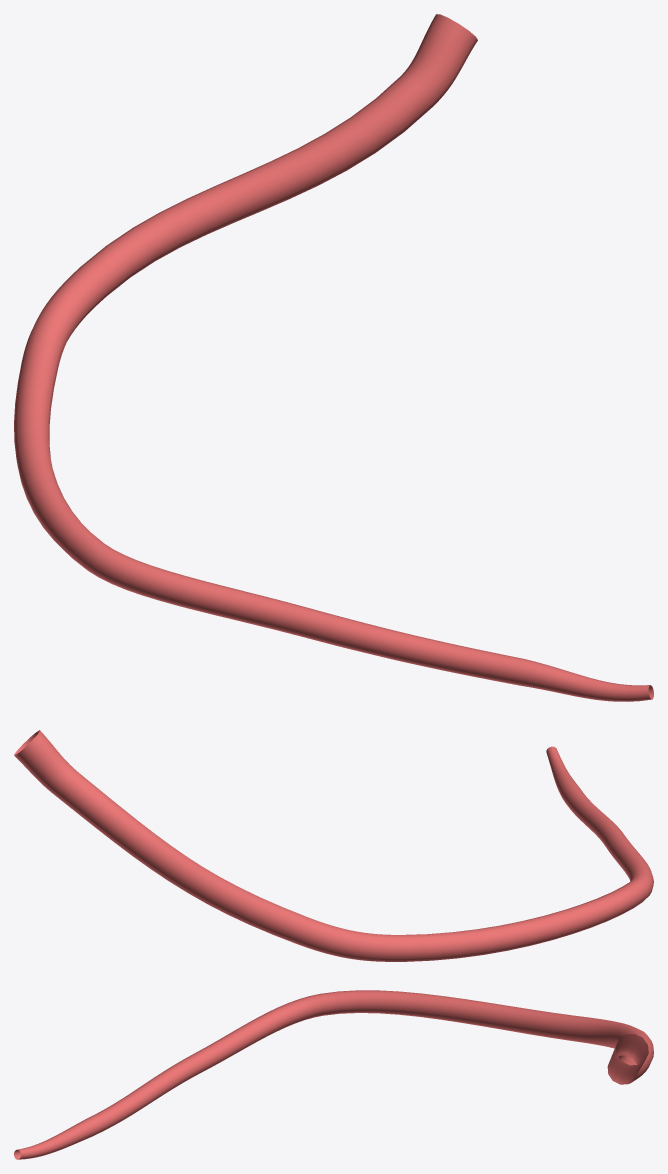
The model's file is Inferior_medial_genicular_artery.l_BezierCurve.248.glb.
3 renders of one model, top to bottom at view 1: azimuth 30°, elevation 25°; view 2: azimuth 150°, elevation 25°; view 3: azimuth 270°, elevation 25°, orthographic. The views are drawn at different scales.
Parts seen in each view (by area): view 1: Inferior_medial_genicular_artery.l_BezierCurve.248; view 2: Inferior_medial_genicular_artery.l_BezierCurve.248; view 3: Inferior_medial_genicular_artery.l_BezierCurve.248.
Boxes of the visible parts, x1=… form: Inferior_medial_genicular_artery.l_BezierCurve.248: x1=14, y1=14, x2=653, y2=701; Inferior_medial_genicular_artery.l_BezierCurve.248: x1=14, y1=730, x2=653, y2=961; Inferior_medial_genicular_artery.l_BezierCurve.248: x1=14, y1=990, x2=653, y2=1159.
Bounding box in the file's own units: 0.0577 × 0.0274 × 0.0753.
